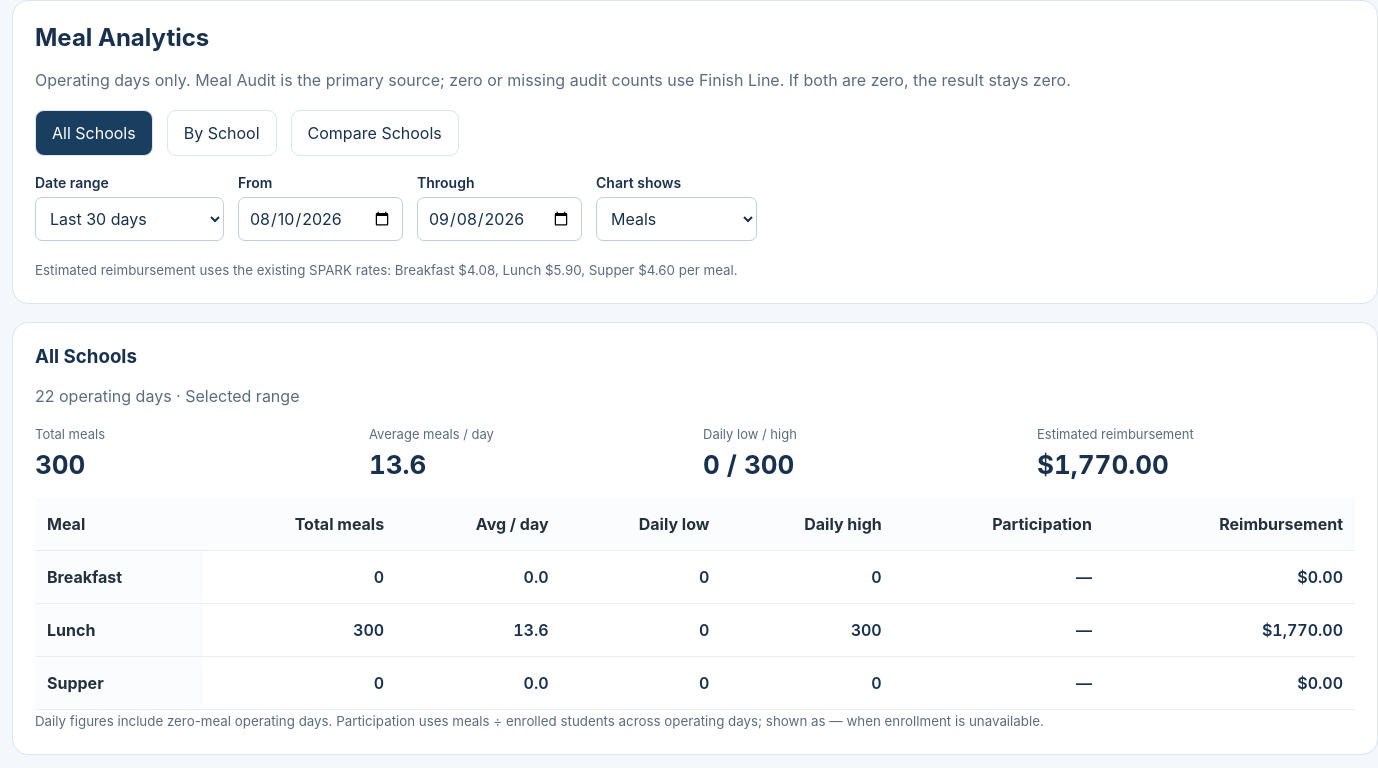
Test: overview, vertical school selection and comparison controls update automatically
The width and height of the screenshot is (1378, 768).
Later steps or results of the test are not shown.
Click the tab "By School" at [222, 133], box [167, 110, 277, 156]
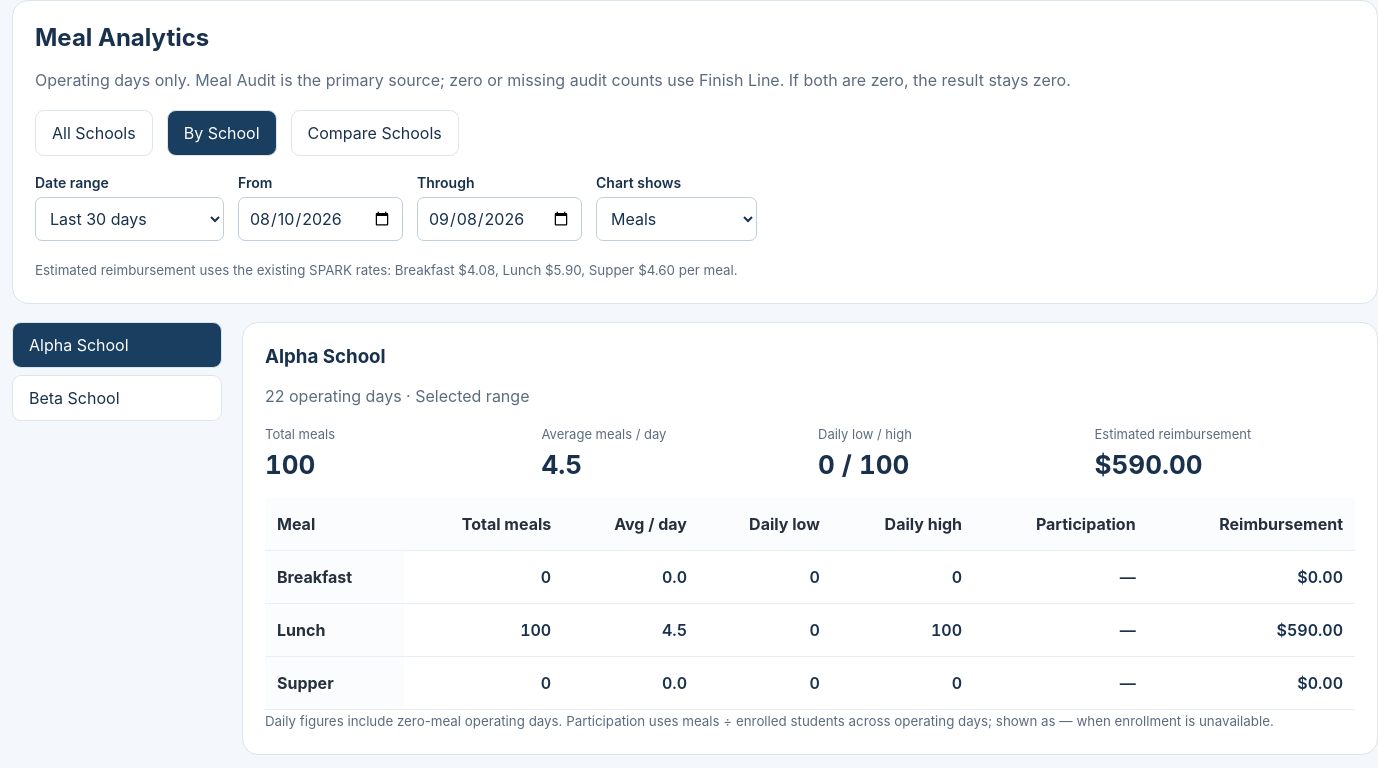
Check: the navigation bar named "Choose a school" is shown, box [12, 322, 222, 421]
Click the button "Beta School" at [117, 398], box [12, 375, 222, 421]
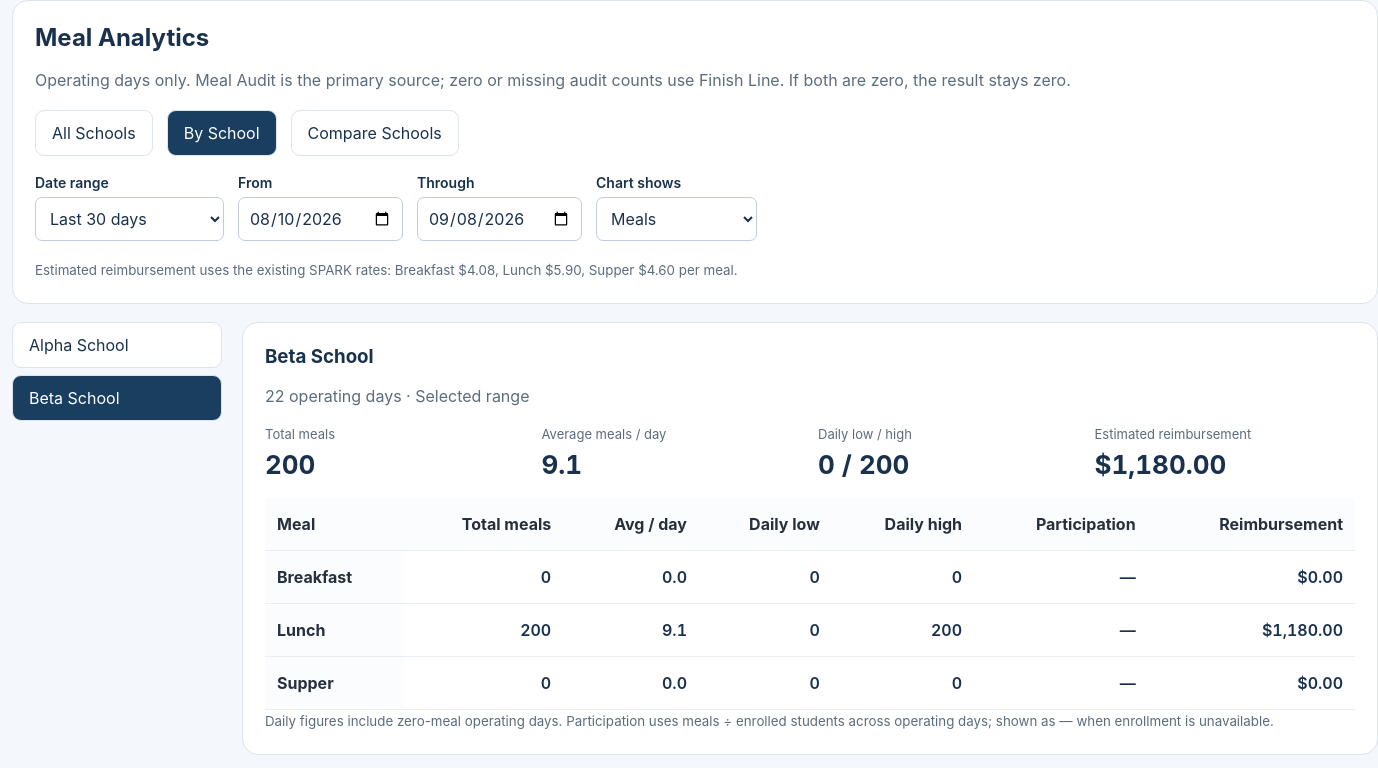
Check: the heading "Beta School" is shown, box [265, 345, 374, 368]
